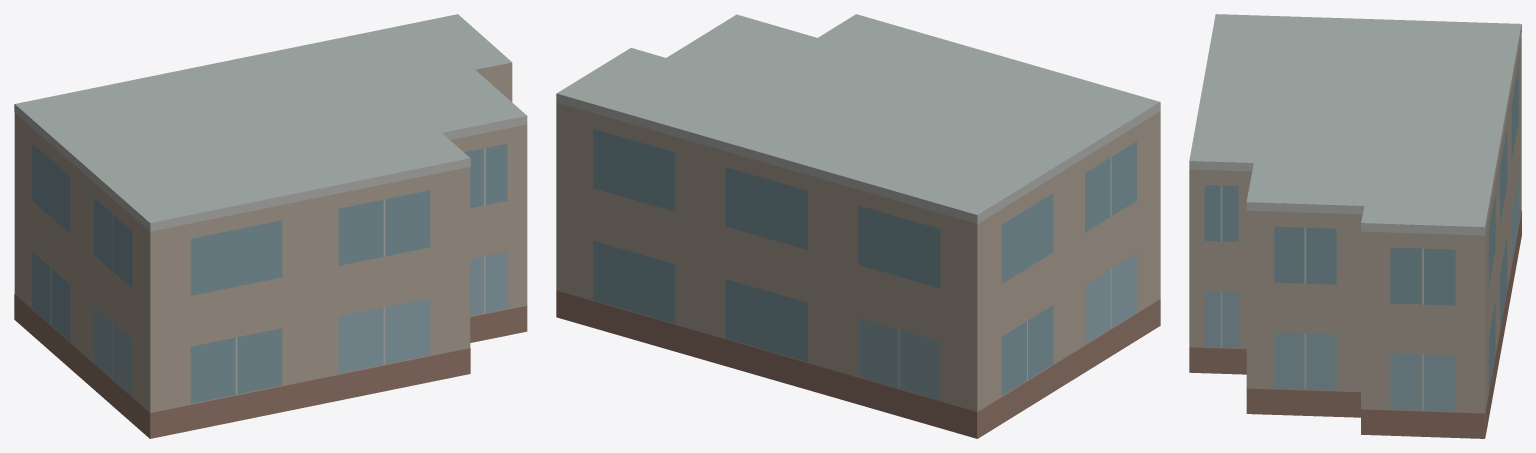
File: survey-upis-33027202.glb
The picture shows the model from 3 angles, left to right: view 1: azimuth 30°, elevation 25°; view 2: azimuth 150°, elevation 25°; view 3: azimuth 270°, elevation 25°; orthographic projection. The views are drawn at different scales.
Parts seen in each view (by area): view 1: survey-upis-33027202.tmp; view 2: survey-upis-33027202.tmp; view 3: survey-upis-33027202.tmp.
Boxes of the visible parts, left/top/right/bottom form: survey-upis-33027202.tmp: left=14, top=14, right=527, bottom=438; survey-upis-33027202.tmp: left=556, top=14, right=1160, bottom=438; survey-upis-33027202.tmp: left=1189, top=14, right=1521, bottom=438.
Size of the model in its own units: 13.18 by 6.1 by 8.69.
